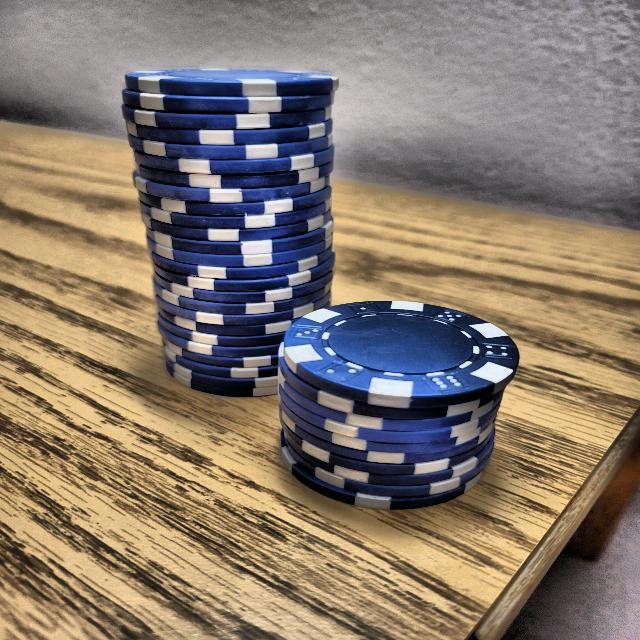Chip: (105, 48, 358, 413), (261, 268, 529, 522)
